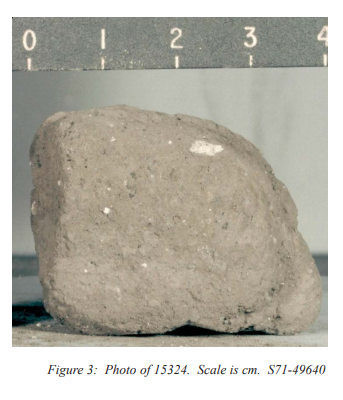Breccia: (10, 87, 327, 347)
